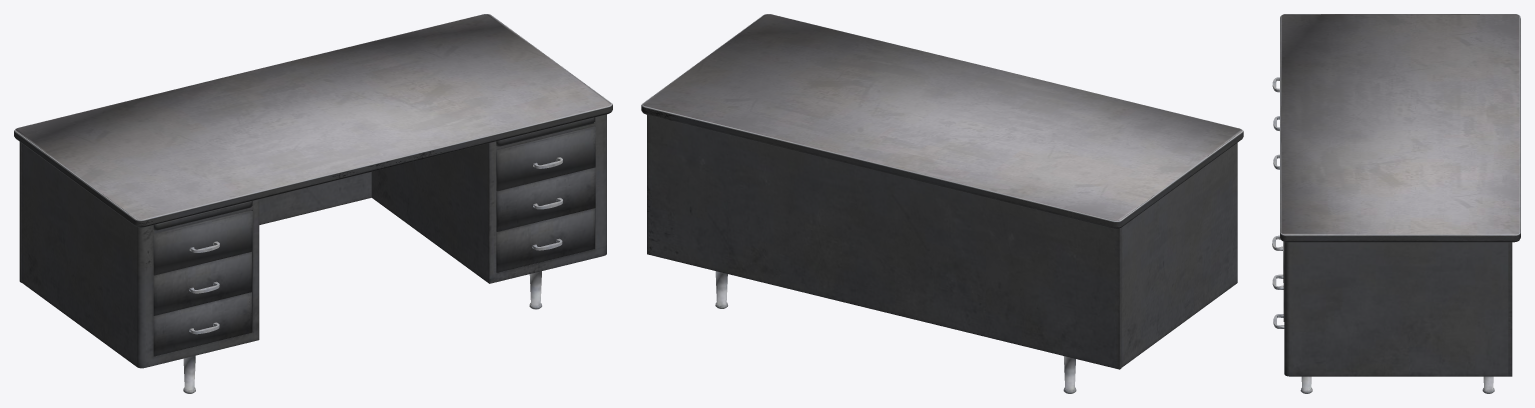
Rendered from metal_office_desk.fbx.
3 views of the same model, side by side, from view 1: azimuth 30°, elevation 25°; view 2: azimuth 150°, elevation 25°; view 3: azimuth 270°, elevation 25° (orthographic). The views are drawn at different scales.
Visible parts, largest first — view 1: metal_office_desk_LOD0; view 2: metal_office_desk_LOD0; view 3: metal_office_desk_LOD0.
Boxes of the visible parts, x1,y1,x2,y2 form: metal_office_desk_LOD0: [14, 14, 612, 393]; metal_office_desk_LOD0: [641, 14, 1243, 393]; metal_office_desk_LOD0: [1272, 14, 1520, 393].
Size of what is drawn, in the model's own units: 200 by 78.75 by 94.73.
1 material, 1 textured.
